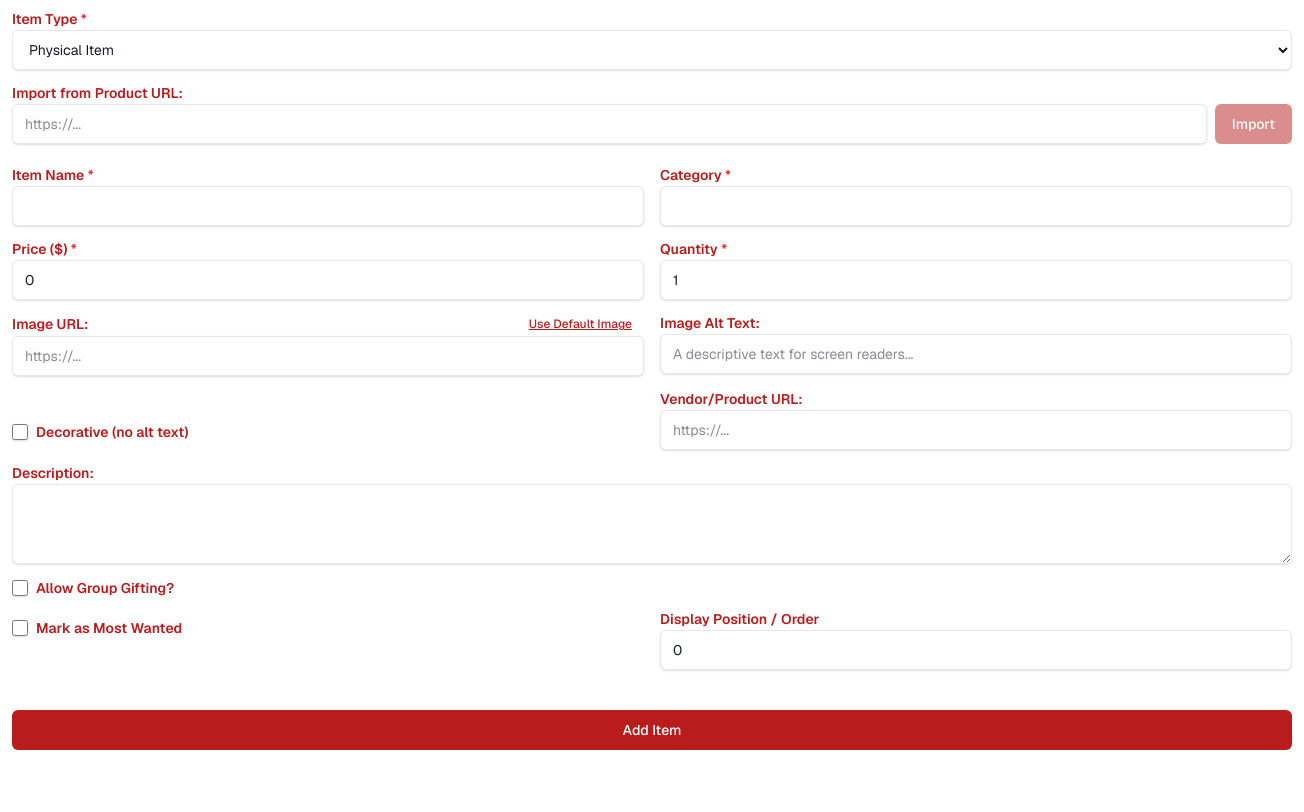
it: RegistryItemForm › allows applying site favicon image fallback
In the field labelled "Import from Product URL:": (609, 124) x1=12 y1=104 x2=1207 y2=144, type "https://www.example.com/no-image"
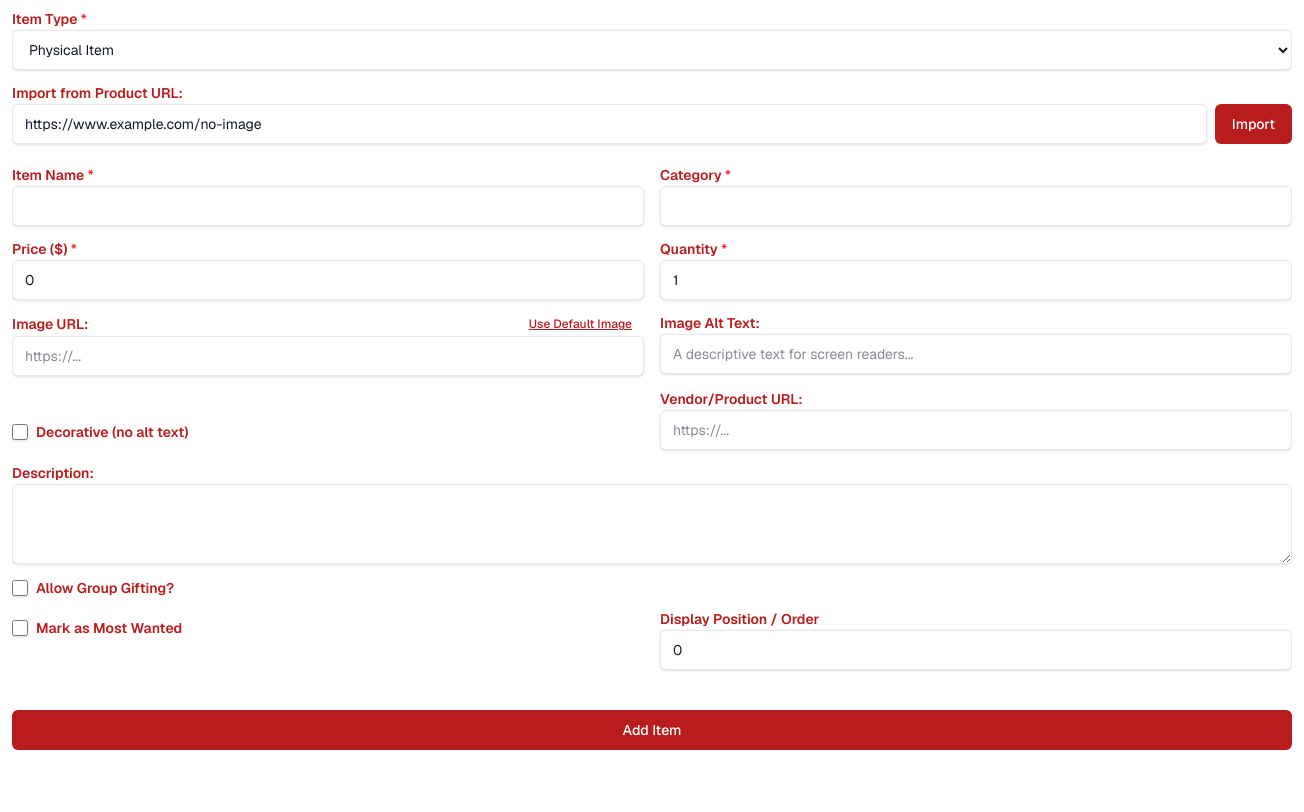
Click the button "Import": (1253, 124) x1=1215 y1=104 x2=1292 y2=144
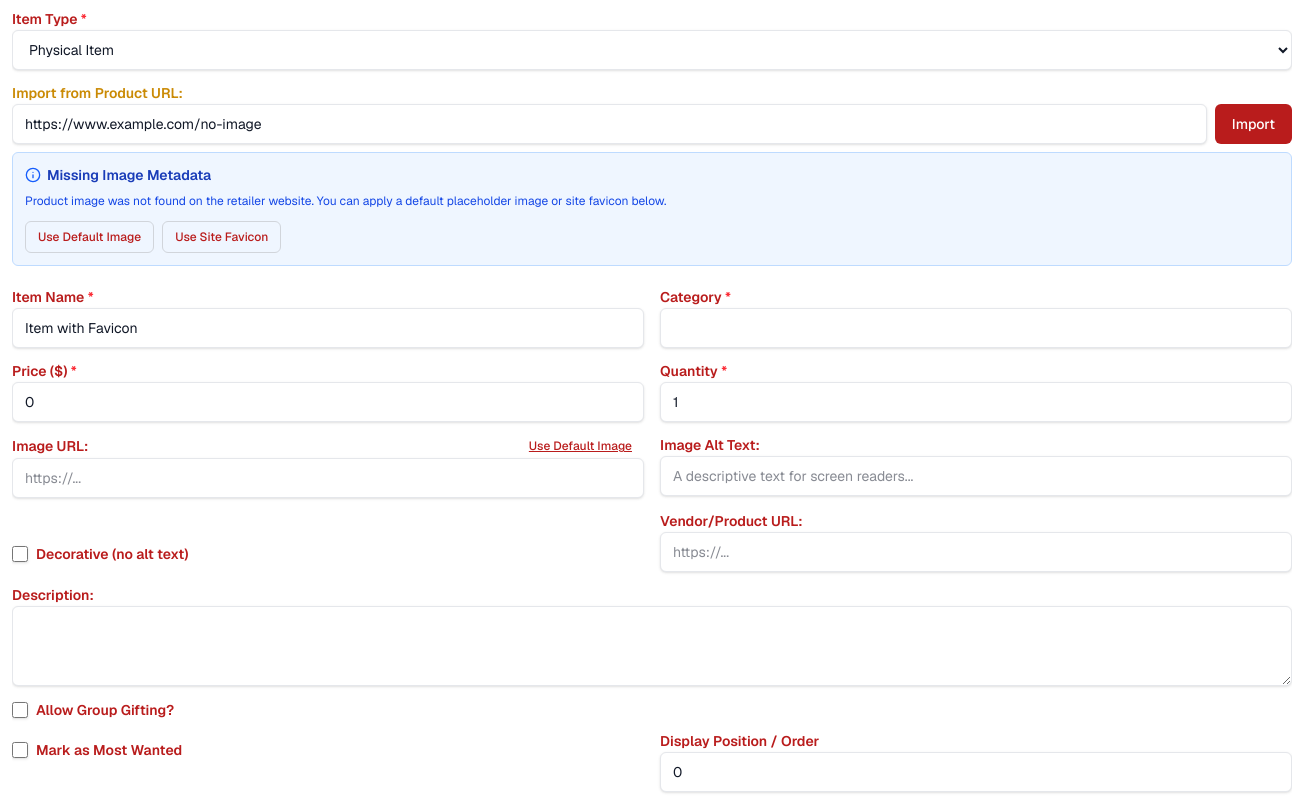
Result: the button with test id "btn-apply-favicon-image" is shown
Click the button with test id "btn-apply-favicon-image": (222, 237) x1=162 y1=221 x2=281 y2=253
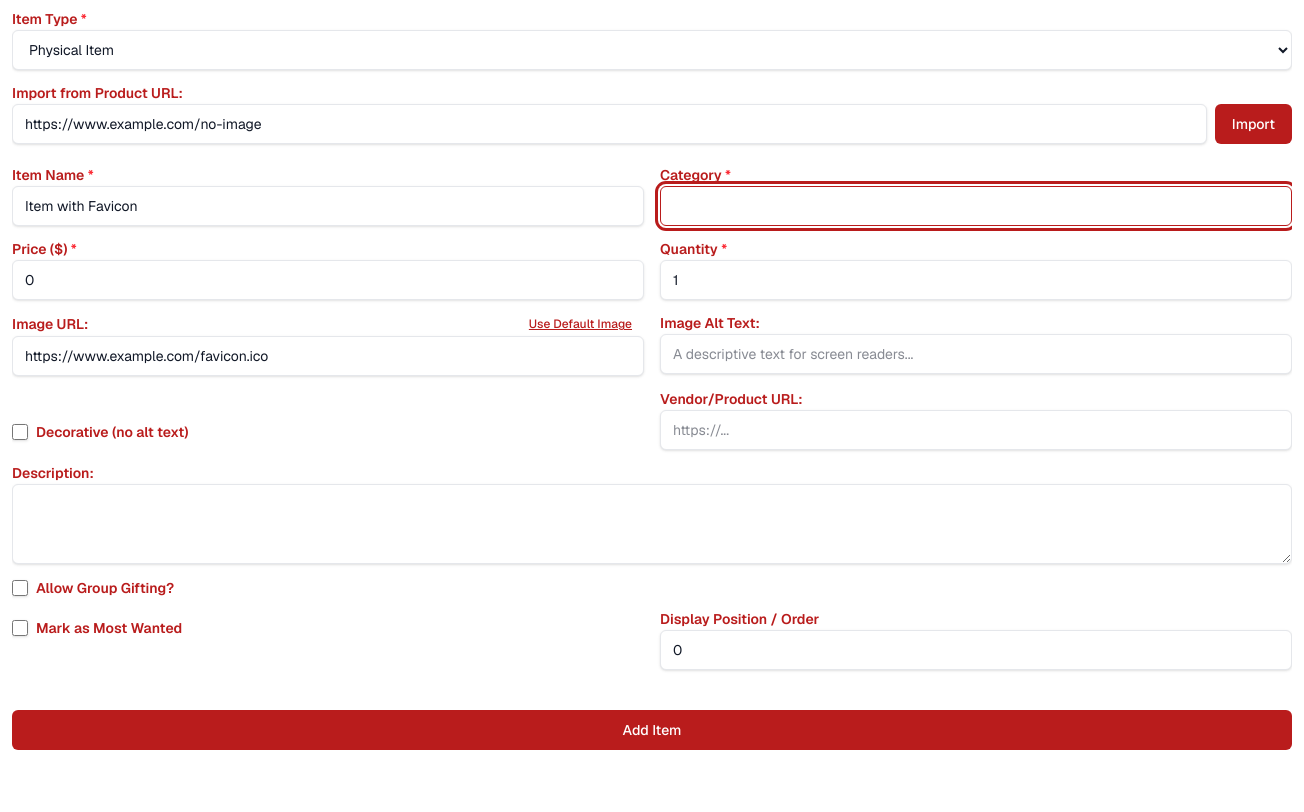
Result: the field labelled "Image URL:" holds "https://www.example.com/favicon.ico" at x1=12 y1=336 x2=644 y2=376
